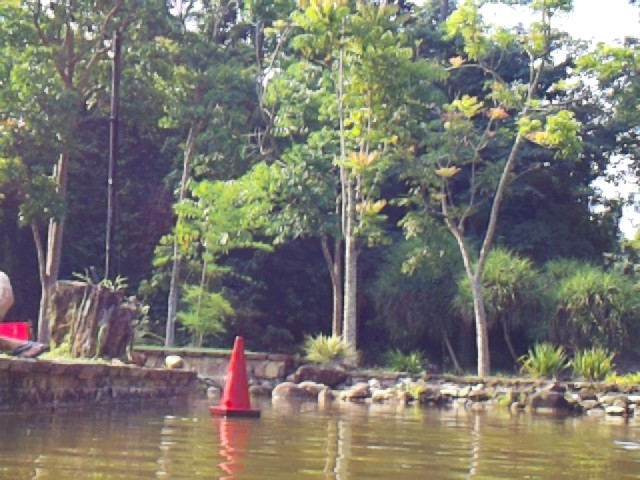obstacle: (211, 335, 261, 418)
